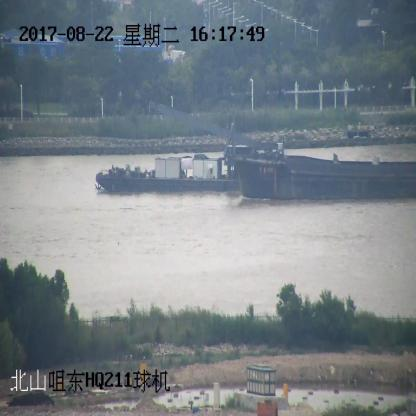Bulk Carrier: (151, 100, 415, 202), (96, 145, 252, 192)
